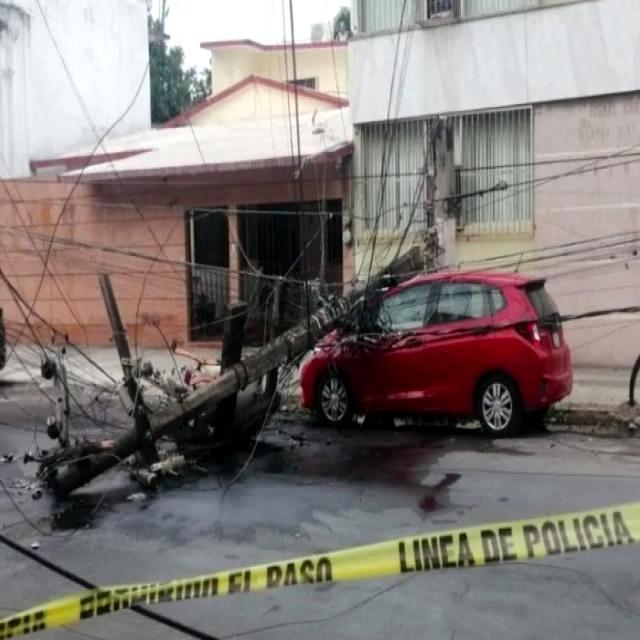Broken Pole: (31, 244, 439, 495)
